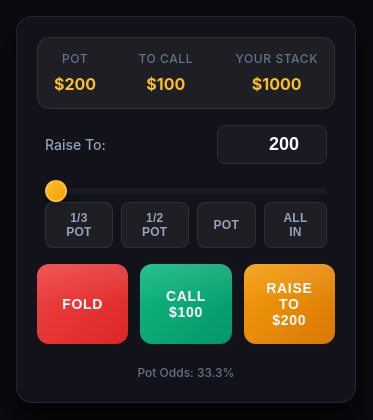
it: BettingControls › Betting Interface › should update bet amount with slider
The image size is (373, 420).
Set the slider to "300". click: (86, 191)
box: left=45, top=188, right=327, bottom=194
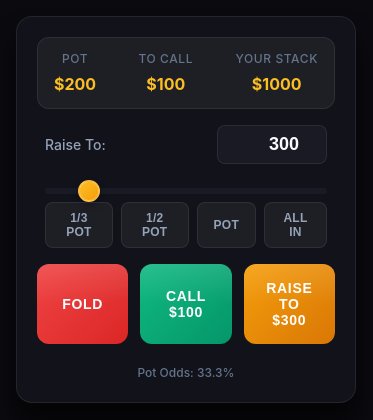
Expected: the number field holds "300", left=217, top=125, right=327, bottom=164
